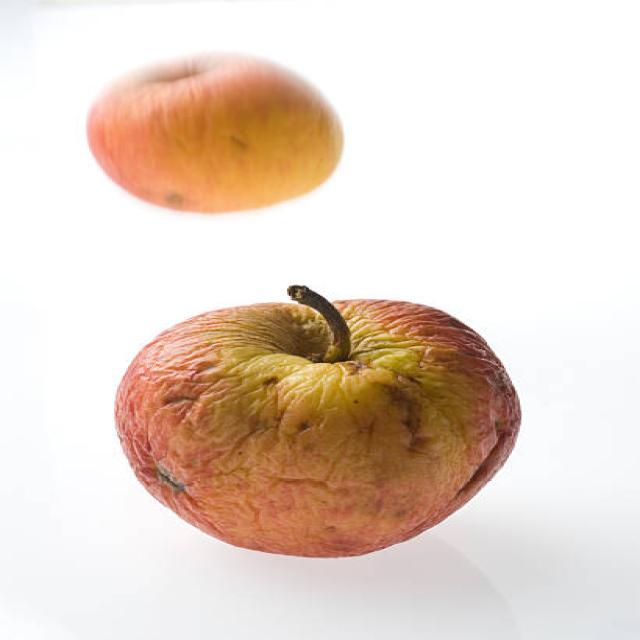overripe: (104, 296, 531, 563)
